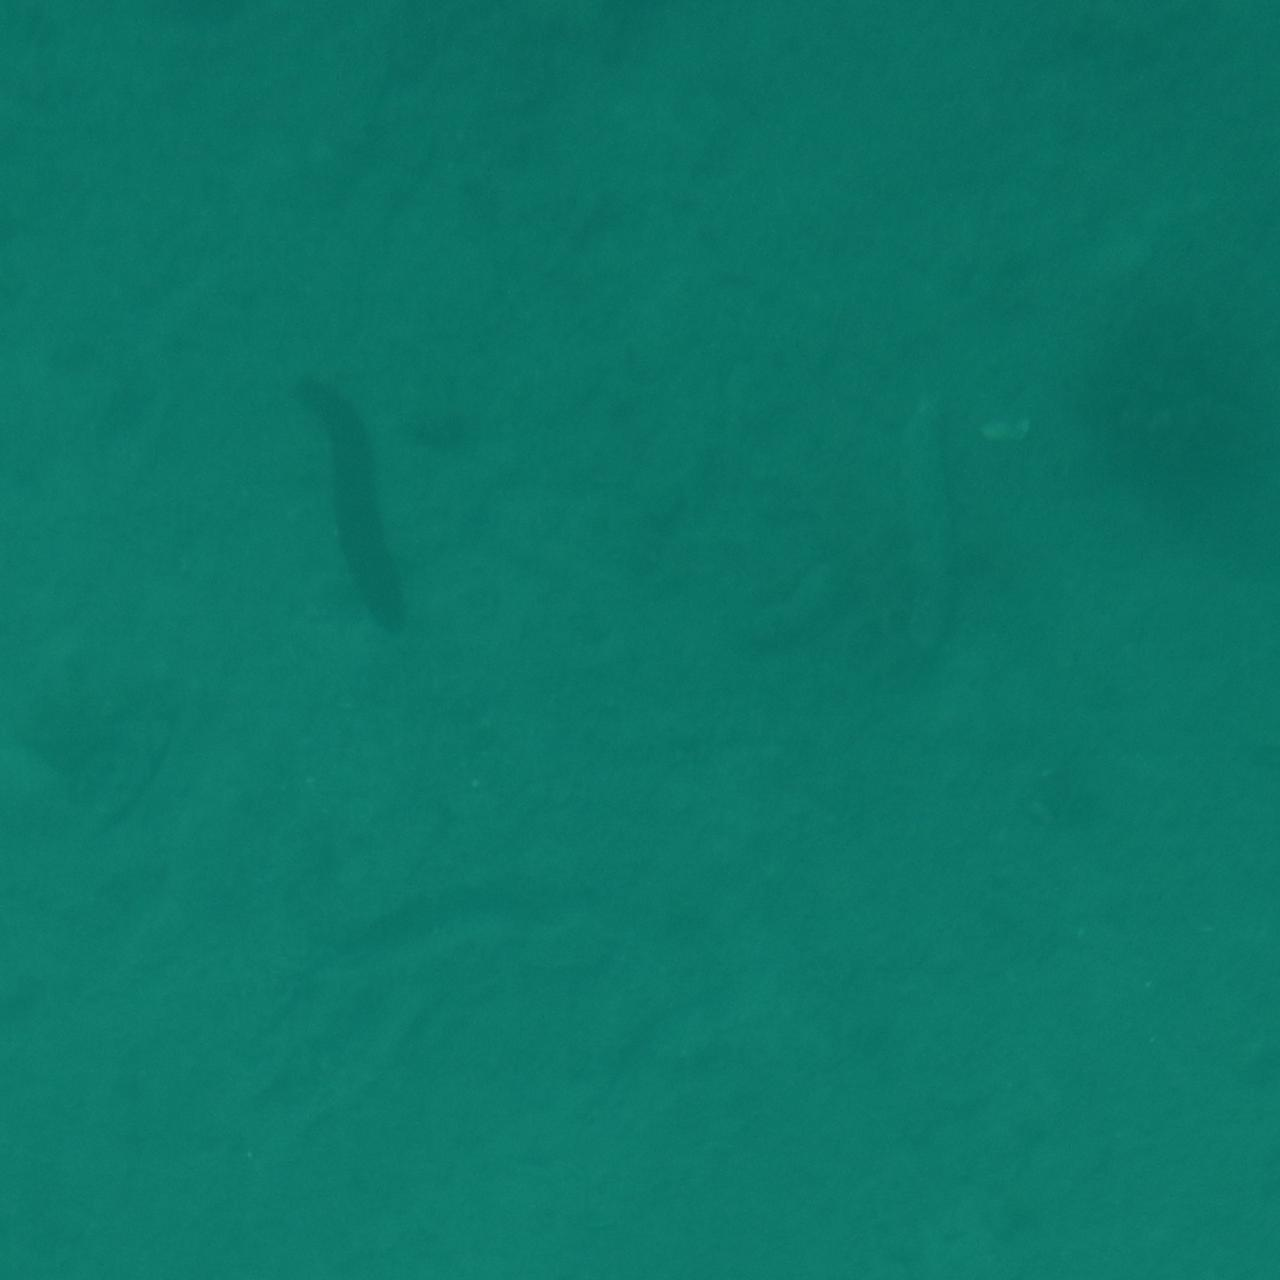Holothuria tubulosa: (265, 354, 435, 658), (877, 401, 985, 704)
